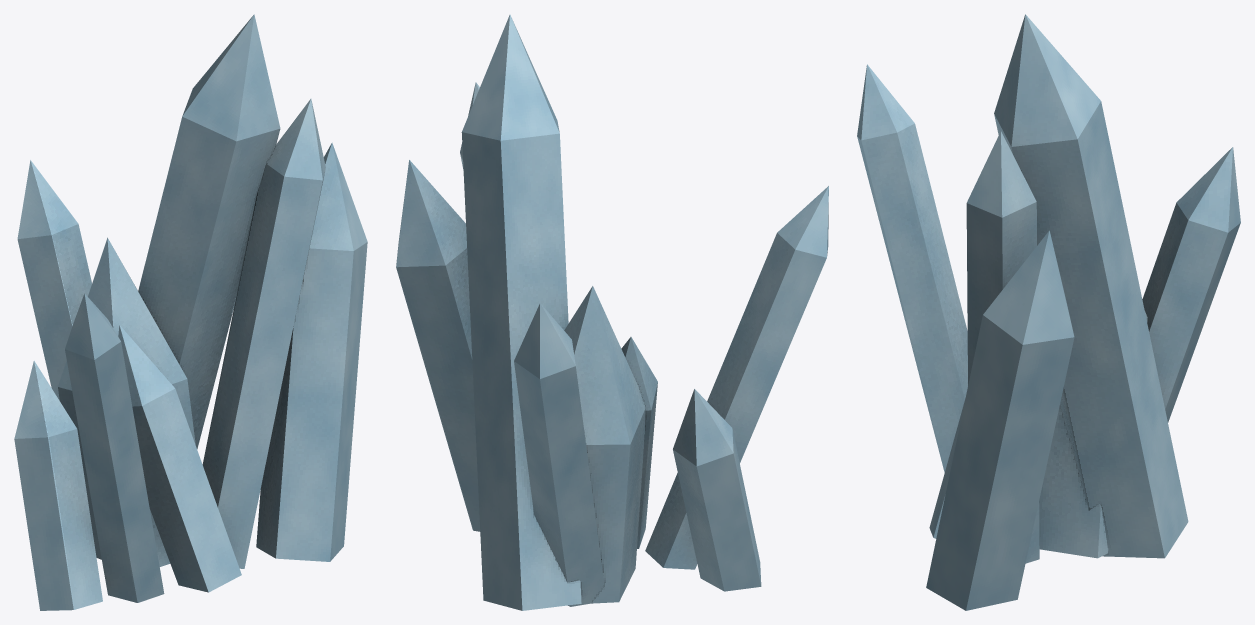
The model's file is snow_ice_shards.glb.
The picture shows the model from 3 angles, left to right: view 1: azimuth 30°, elevation 25°; view 2: azimuth 150°, elevation 25°; view 3: azimuth 270°, elevation 25°; orthographic projection. The views are drawn at different scales.
Visible parts, largest first — view 1: snow_ice_shards; view 2: snow_ice_shards; view 3: snow_ice_shards.
Boxes of the visible parts, x1,y1,x2,y2 form: snow_ice_shards: (14,14,367,610); snow_ice_shards: (396,14,828,610); snow_ice_shards: (857,14,1240,610).
Bounding box in the file's own units: 1.17 × 1.62 × 0.999.
Materials: 1 (1 with a texture image).
